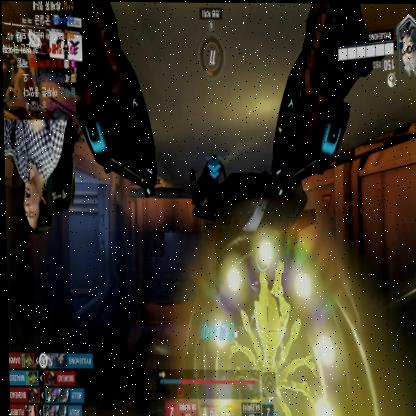streamer: (2, 119, 69, 235)
